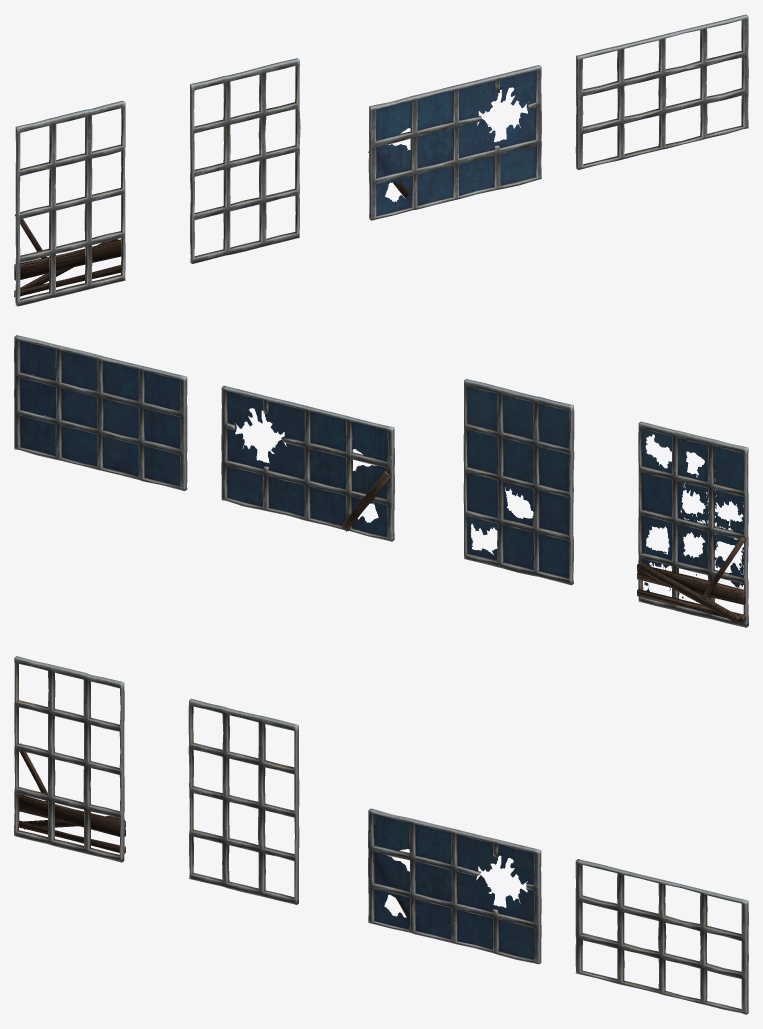
File: Windows_low.fbx
3 views of the same model, one above another, from view 1: azimuth 30°, elevation 25°; view 2: azimuth 150°, elevation 25°; view 3: azimuth 330°, elevation 25° (orthographic).
Visible parts, largest first — view 1: Window2, Window4, Window3, Window1; view 2: Window1, Window3, Window2, Window4; view 3: Window2, Window4, Window3, Window1.
Boxes of the visible parts, x1,y1,x2,y2 form: Window2: (368,65,541,220); Window4: (14,100,125,306); Window3: (190,58,300,263); Window1: (575,14,748,169); Window1: (14,335,187,490); Window3: (463,379,574,585); Window2: (221,385,394,541); Window4: (637,421,748,627); Window2: (368,808,541,964); Window4: (14,656,125,862); Window3: (188,698,299,904); Window1: (575,859,748,1014).
Size of the model in its own units: 1768 by 415 by 25.55.
